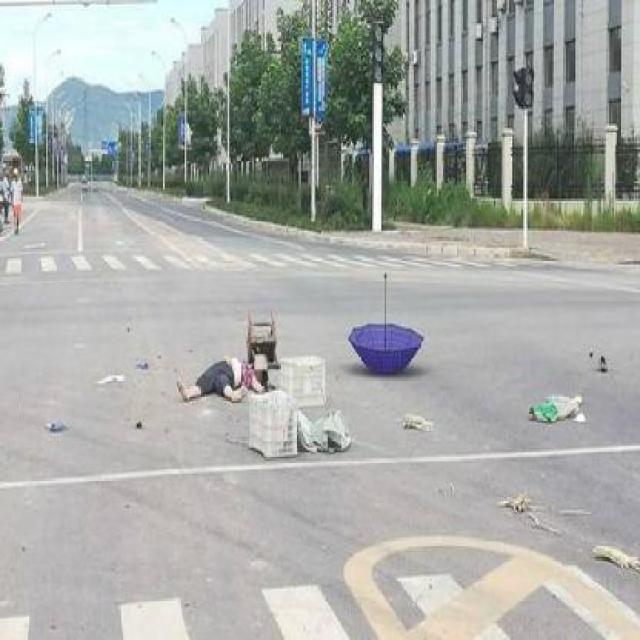fall: (168, 328, 275, 421)
